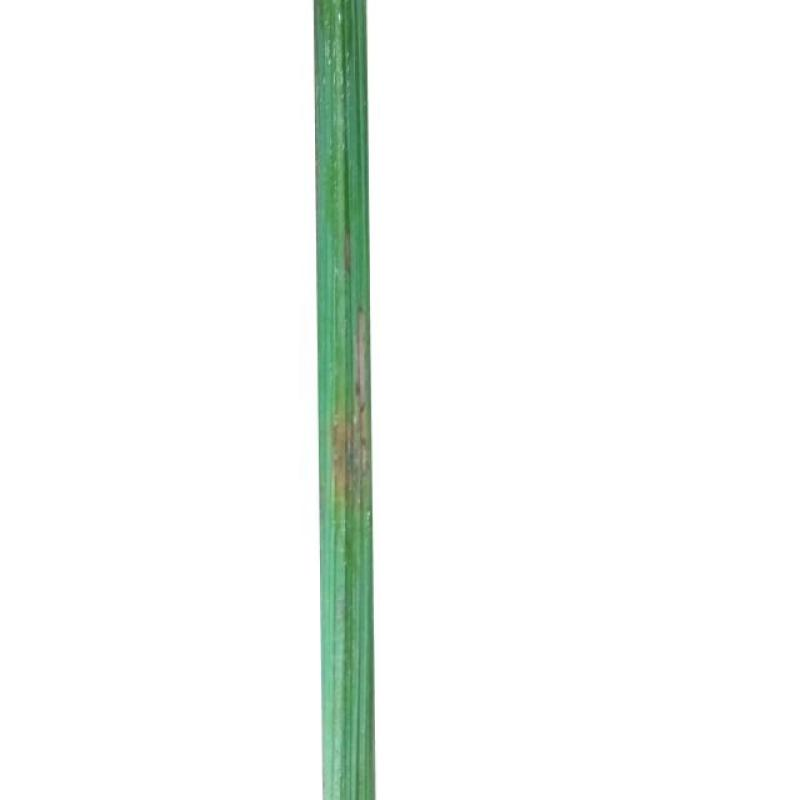Leaf_Blast: (330, 301, 368, 552), (342, 220, 352, 281)
